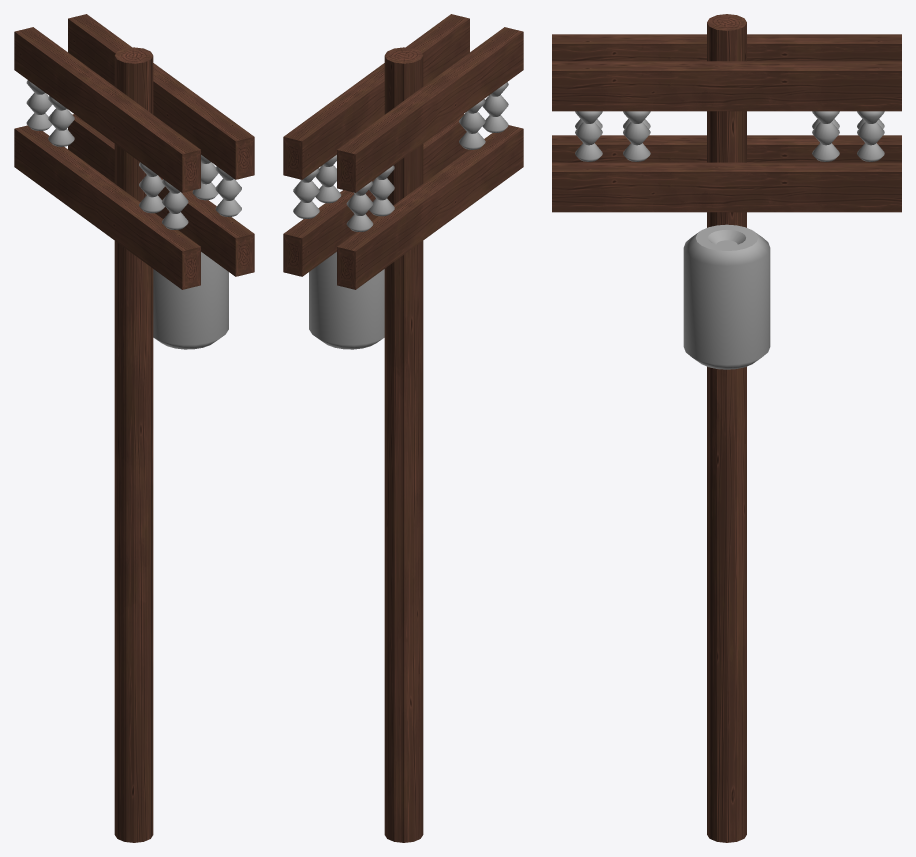
File: SM_UtilityPole_Var_A.fbx
3 views of the same model, side by side, from view 1: azimuth 30°, elevation 25°; view 2: azimuth 150°, elevation 25°; view 3: azimuth 270°, elevation 25° (orthographic). The views are drawn at different scales.
Visible parts, largest first — view 1: SM_UtilityPole_Var_A; view 2: SM_UtilityPole_Var_A; view 3: SM_UtilityPole_Var_A.
Boxes of the visible parts, x1=… form: SM_UtilityPole_Var_A: x1=14, y1=14, x2=254, y2=842; SM_UtilityPole_Var_A: x1=283, y1=14, x2=523, y2=842; SM_UtilityPole_Var_A: x1=552, y1=14, x2=901, y2=842.
Bounding box in the file's own units: 1.02 × 6 × 2.34.
Materials: 3 (2 with a texture image).
